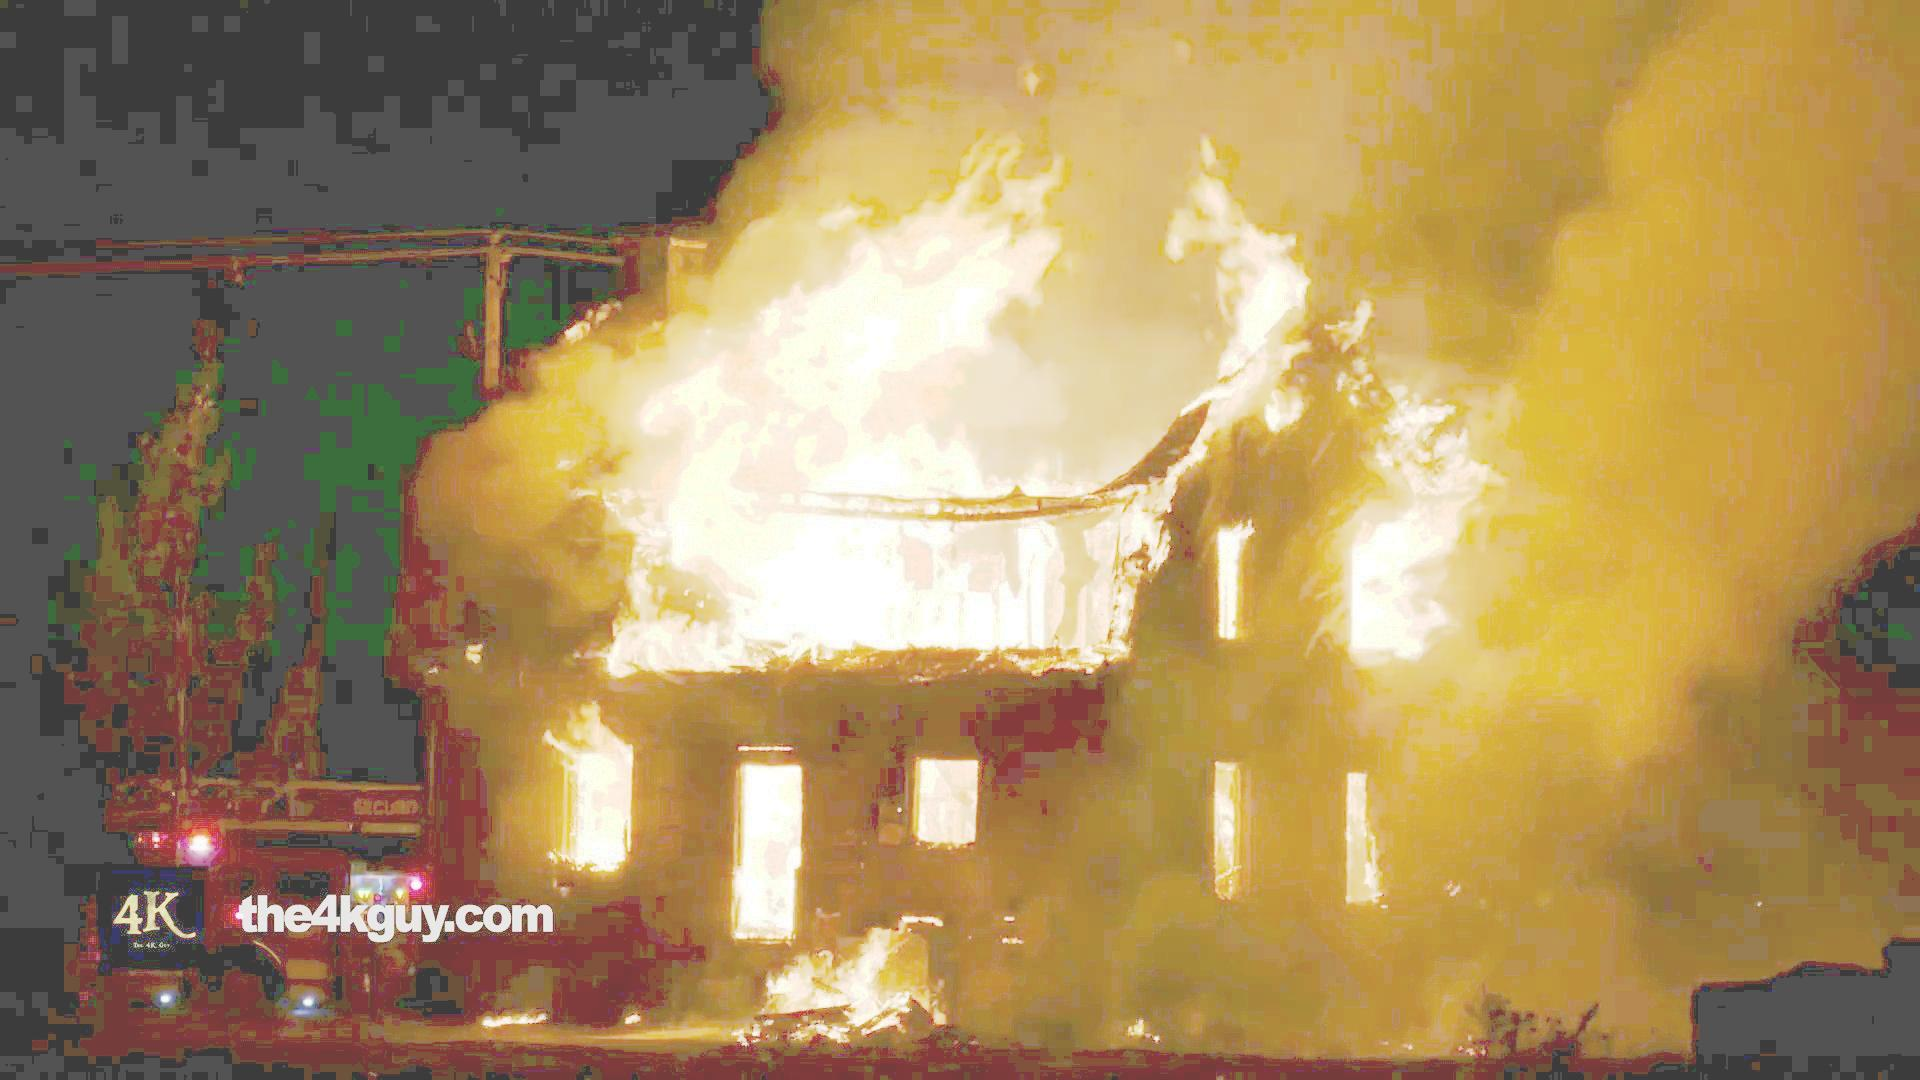fire: (600, 133, 1067, 669), (1284, 426, 1515, 666), (1175, 158, 1303, 375), (750, 913, 947, 1050), (526, 713, 632, 872)
